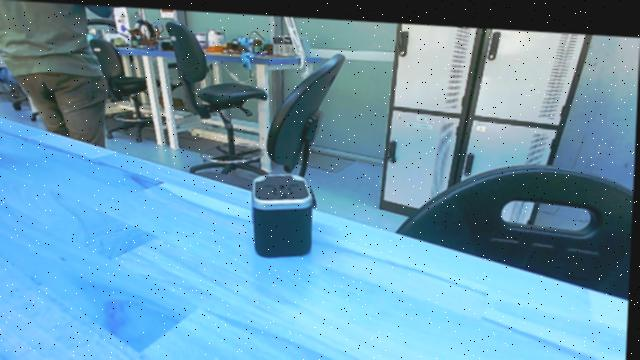adapter: (241, 165, 323, 262)
